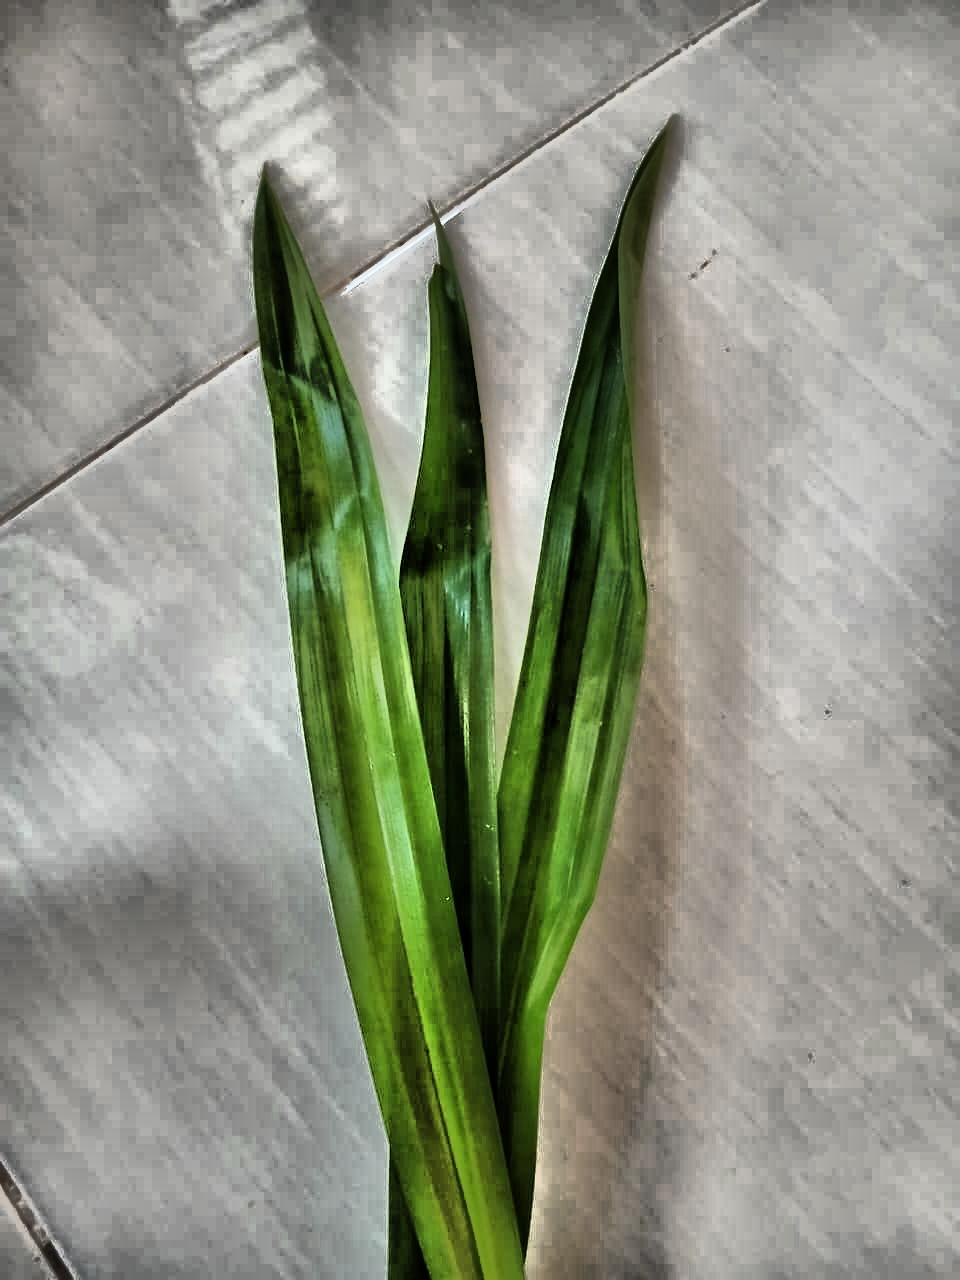daun pandan: (254, 126, 670, 1279)
